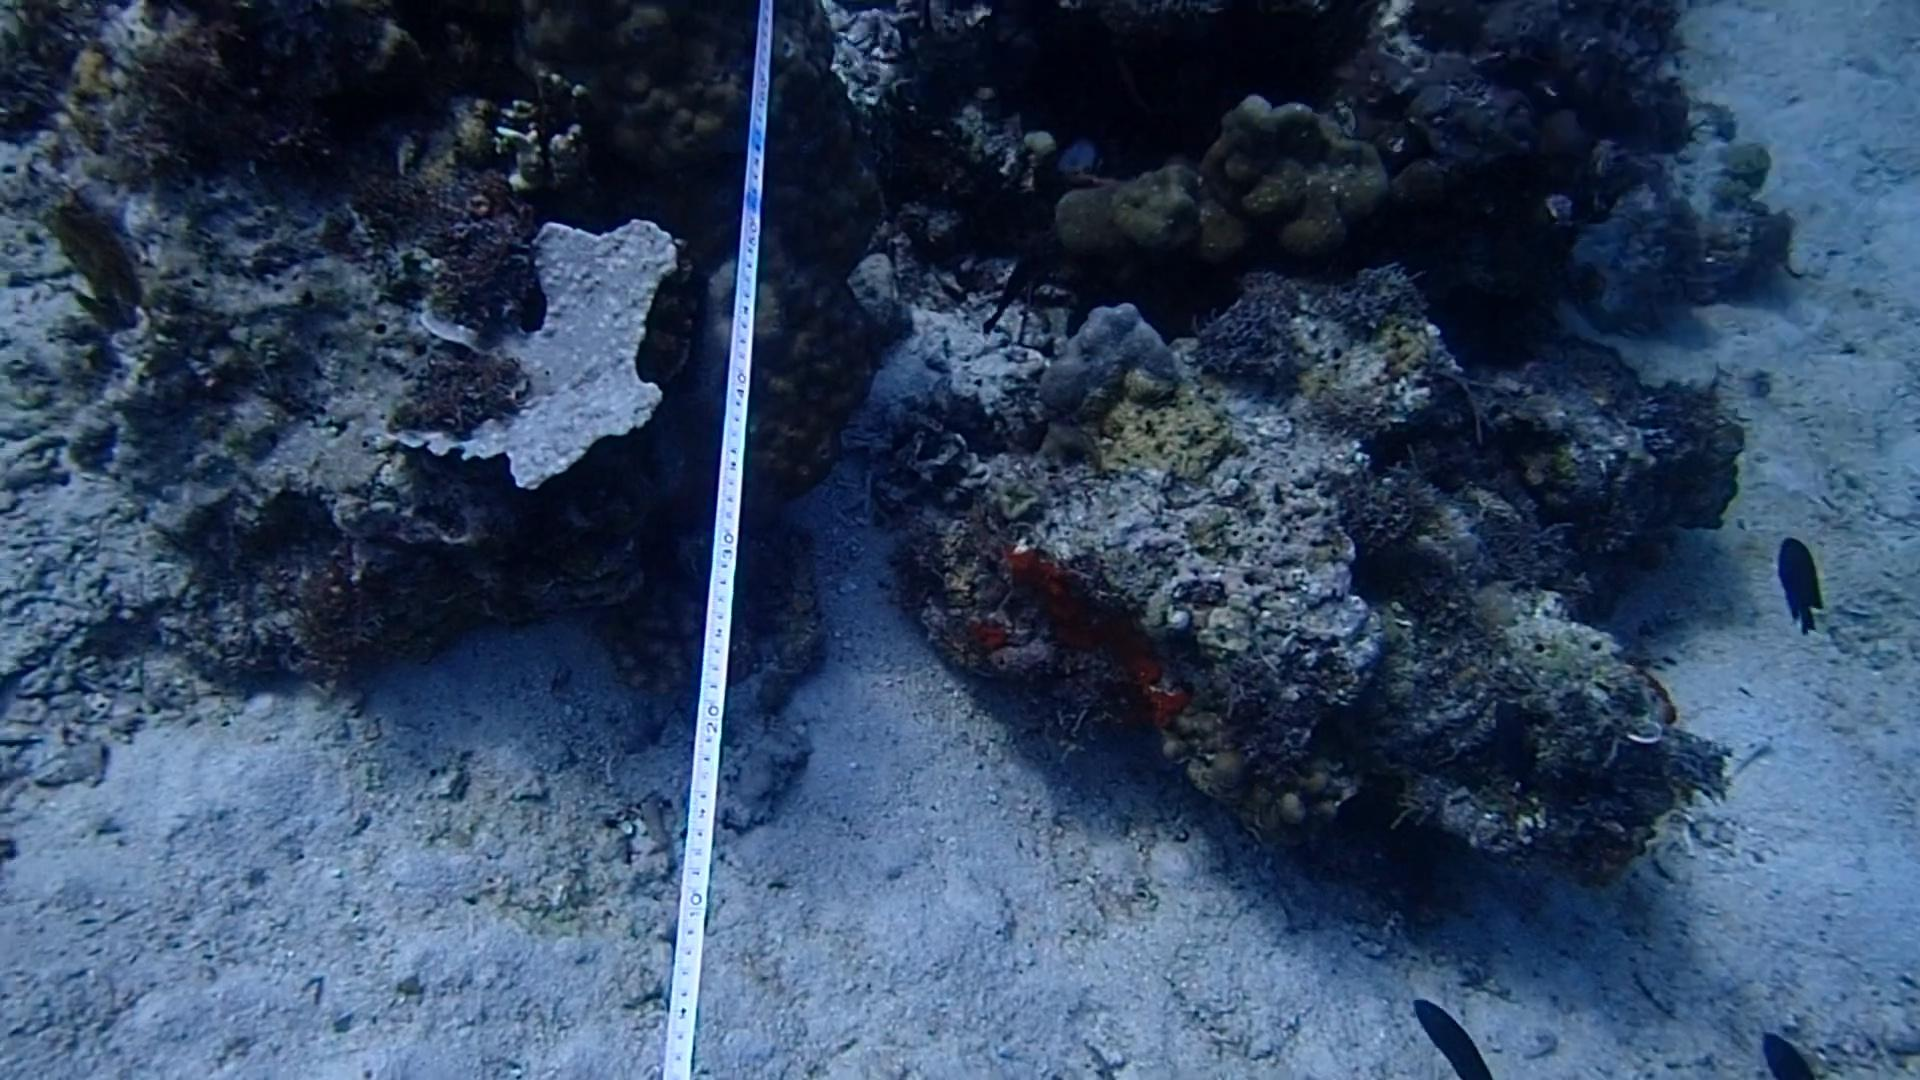Dark Fish: (1751, 514, 1842, 655), (1402, 986, 1503, 1080), (1747, 1025, 1807, 1080)
